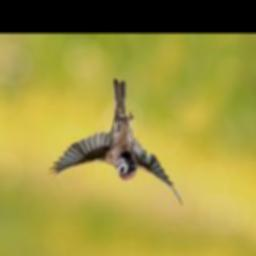Sparrow: (47, 78, 181, 206)
